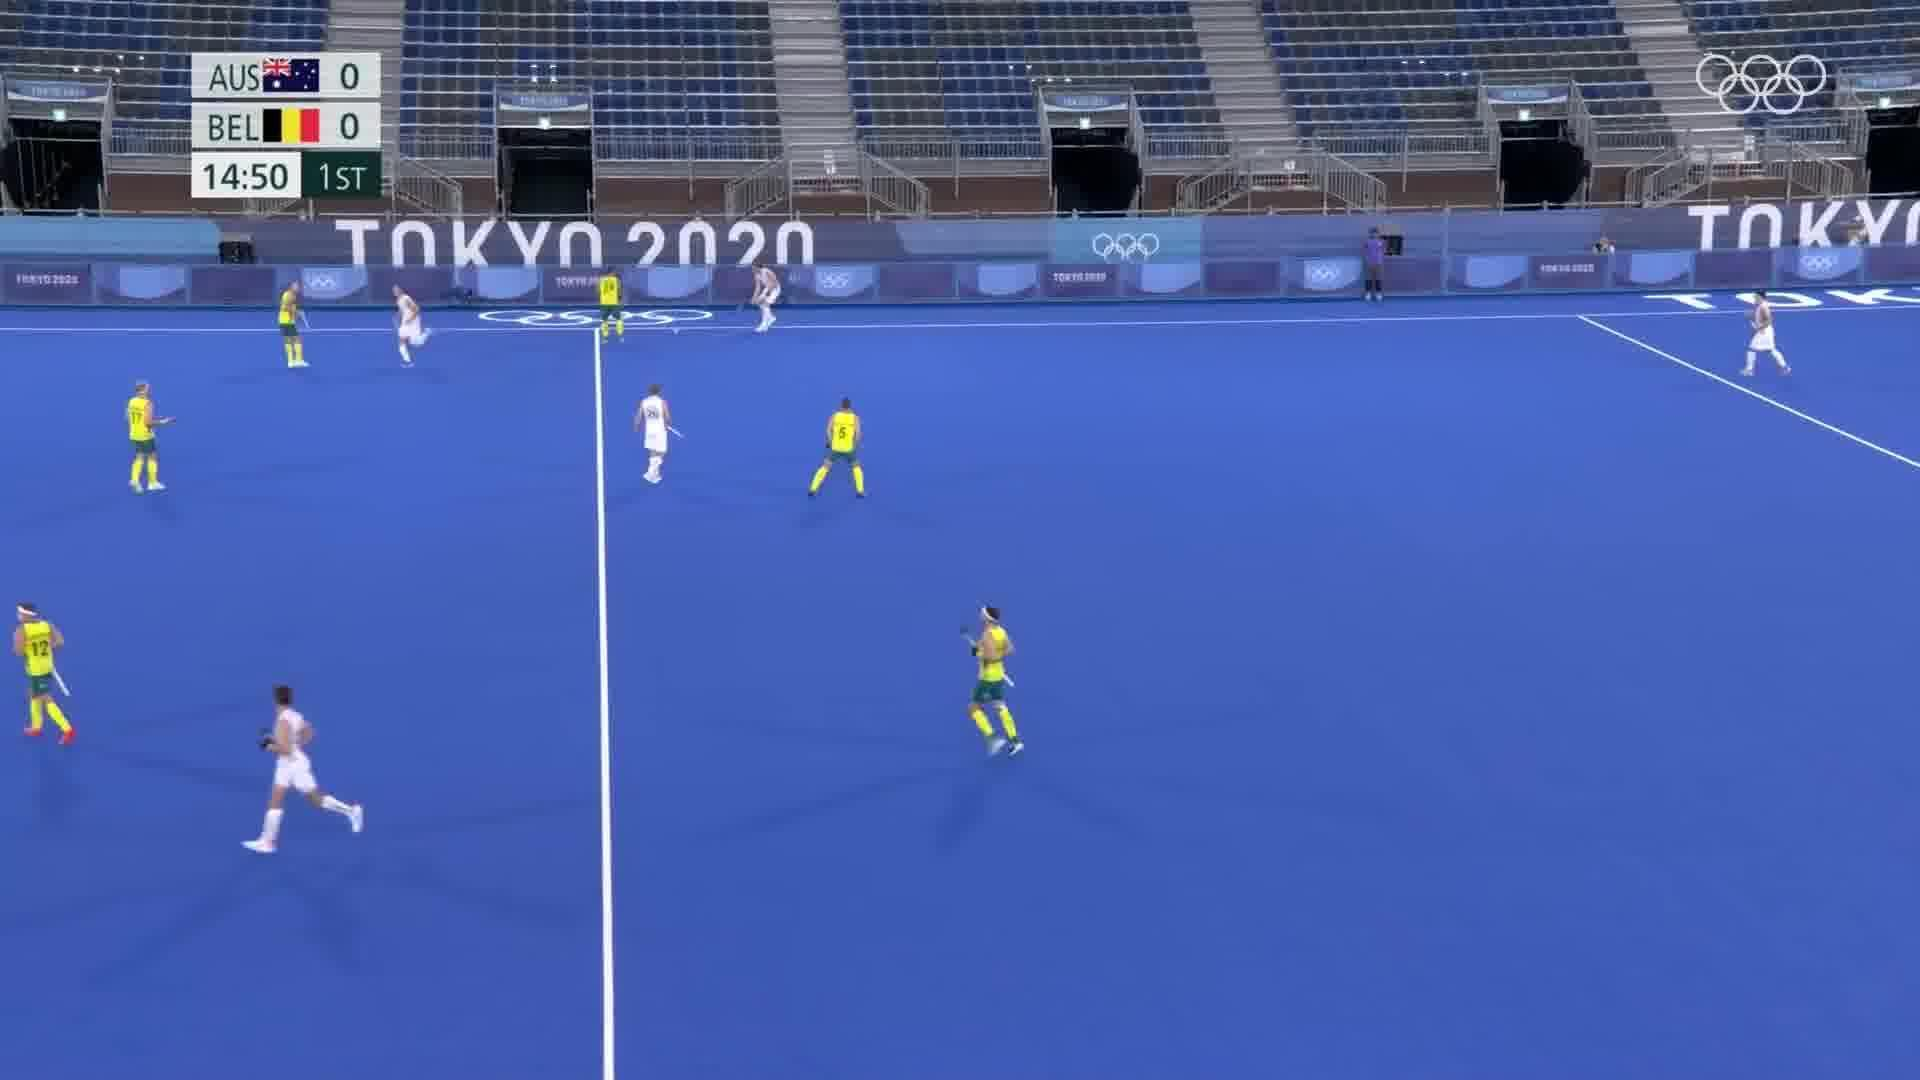ball: (669, 324, 684, 339)
